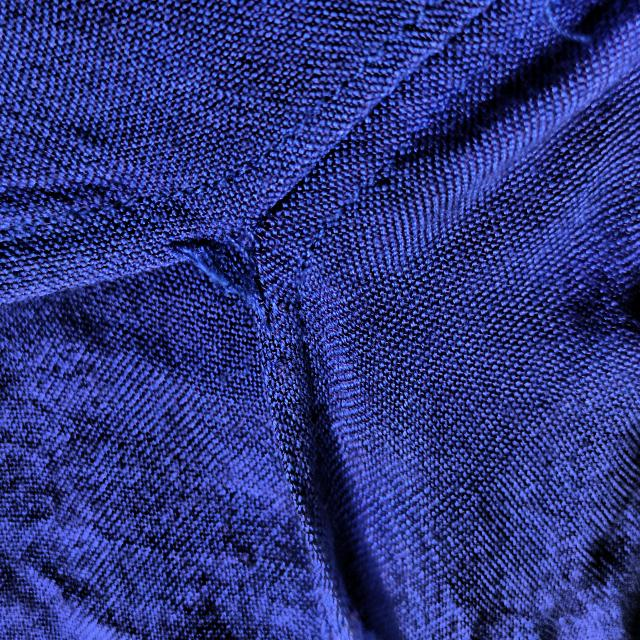Stitch: (144, 195, 308, 344)
